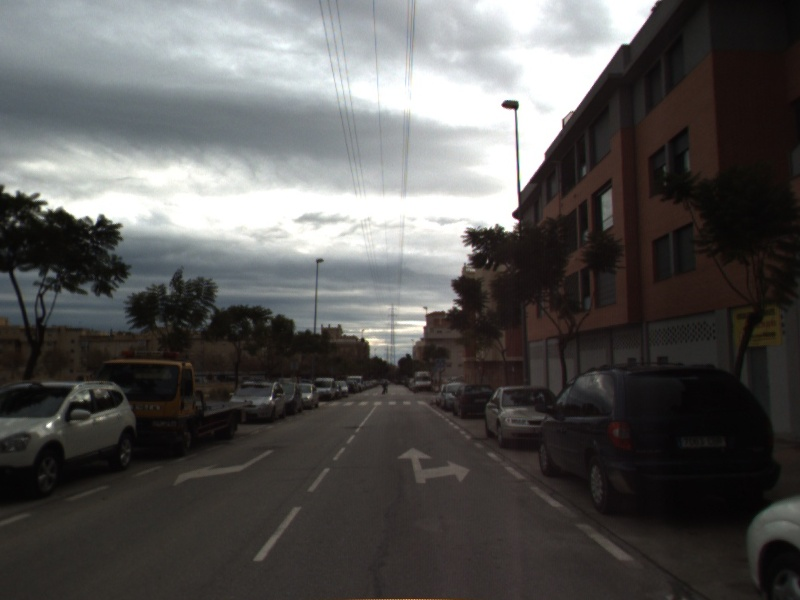STRAIGHT_RIGHT: (395, 445, 473, 485)
